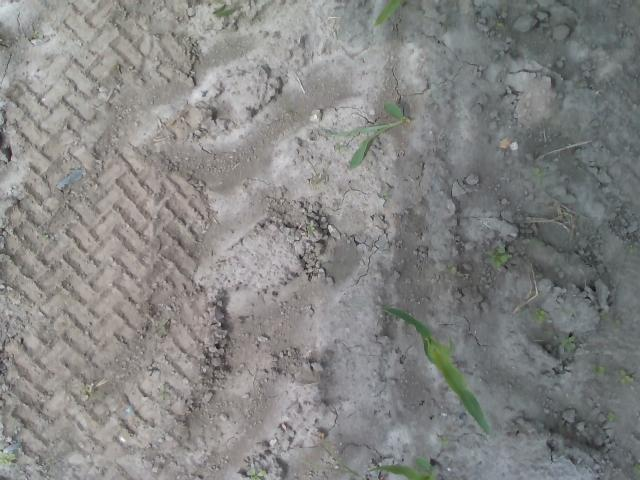Maize: (381, 304, 494, 438), (322, 98, 412, 170), (364, 455, 442, 480)
Weeds: (485, 241, 519, 272), (597, 365, 636, 390), (552, 331, 583, 357), (528, 302, 554, 326), (0, 449, 20, 470), (243, 466, 270, 480), (604, 408, 620, 424), (304, 218, 315, 232)
